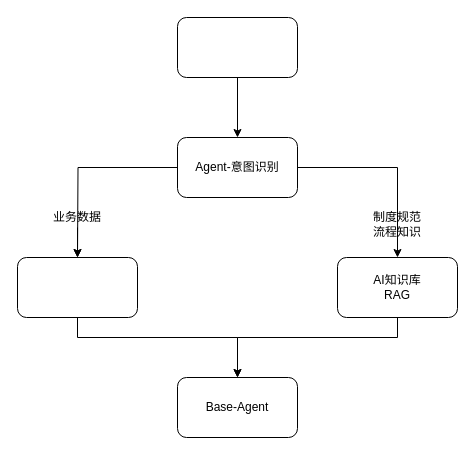
This 475x455 diagram has some shape labels left out. Here are the shapes that lost their labels. From the top down, the centre of each, then its label:
At [237,47]: "AI问答".
At [77,287]: "项目智能问答 MCP(Sql...)".
